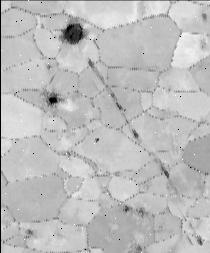good_void: (58, 19, 88, 44), (107, 92, 126, 116), (45, 90, 63, 109), (190, 233, 206, 249), (155, 162, 169, 178), (127, 126, 142, 140), (197, 11, 210, 23), (81, 55, 92, 69), (134, 204, 145, 216), (21, 227, 32, 238), (60, 150, 72, 160), (198, 36, 206, 50), (120, 204, 131, 213), (91, 136, 101, 143), (44, 62, 51, 70), (32, 62, 38, 68)
